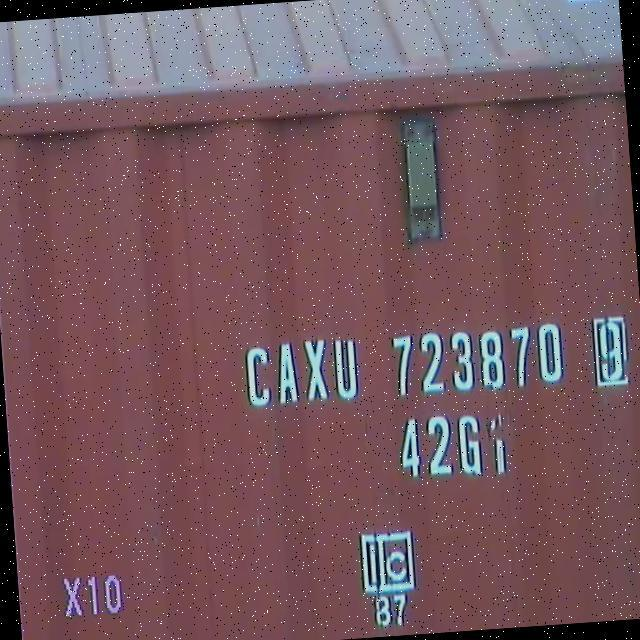le-tle-t-tletters: (239, 310, 638, 421)
